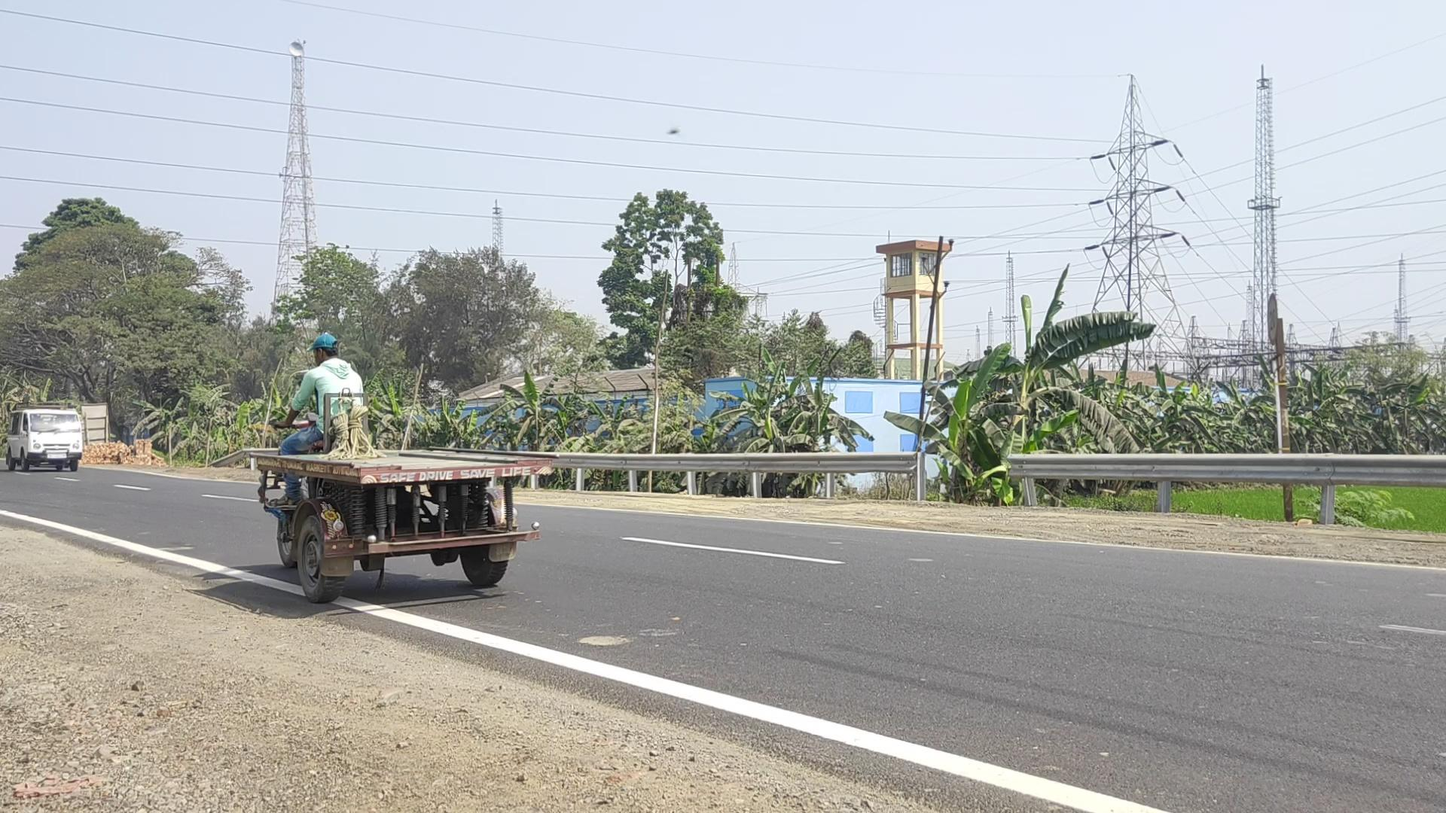van: (5, 401, 83, 472)
